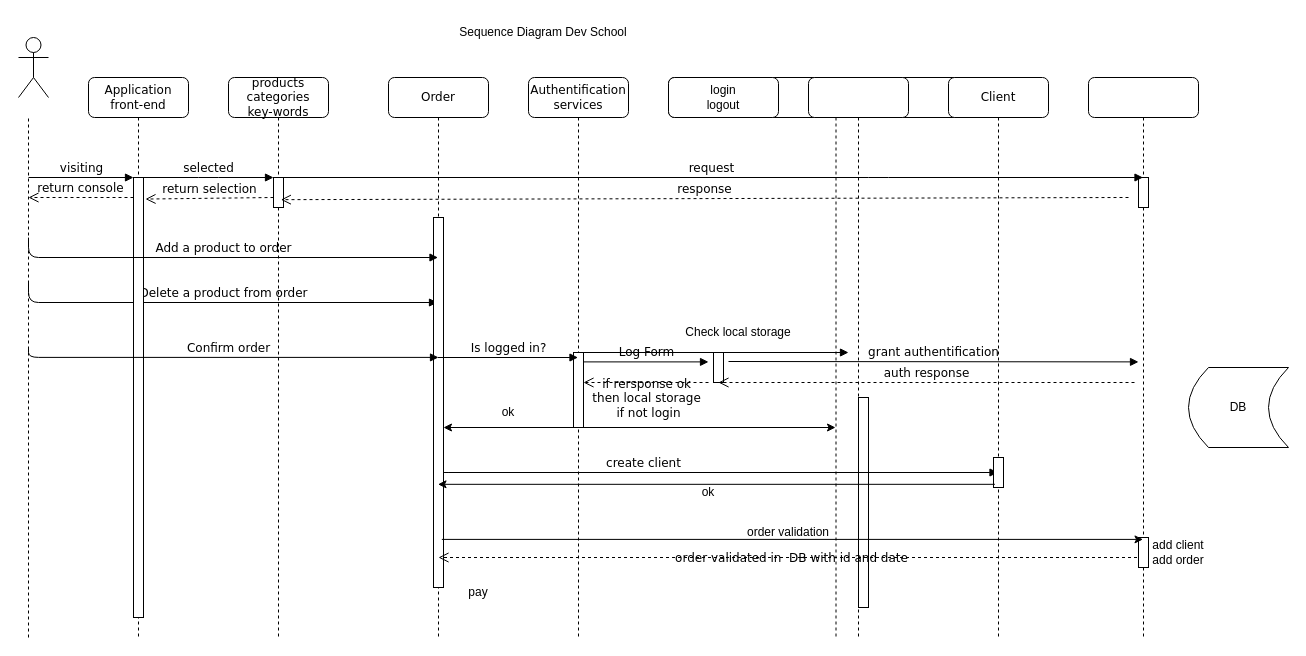
The diagram is 1306 pixels wide and 656 high, and some of its shapes have lost their labels. The box of each missing label's shape, as (x1, y1, x2, y2) in pixels:
Application back-end: (1088, 76, 1198, 638)
Local storage: (808, 76, 908, 638)
Visitor: (18, 36, 48, 98)
